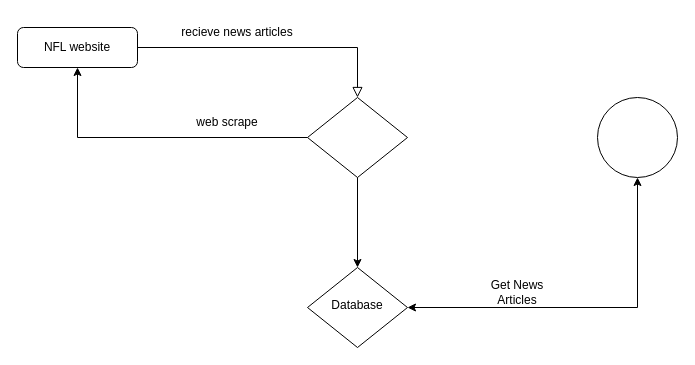
Image size: 695x365. Some labels were removed from this diagram. Here are the shapes that lost their labels. From the top down, the centre of each, then its label:
At [357,137]: "newsApi".
At [637,137]: "News Punt".
